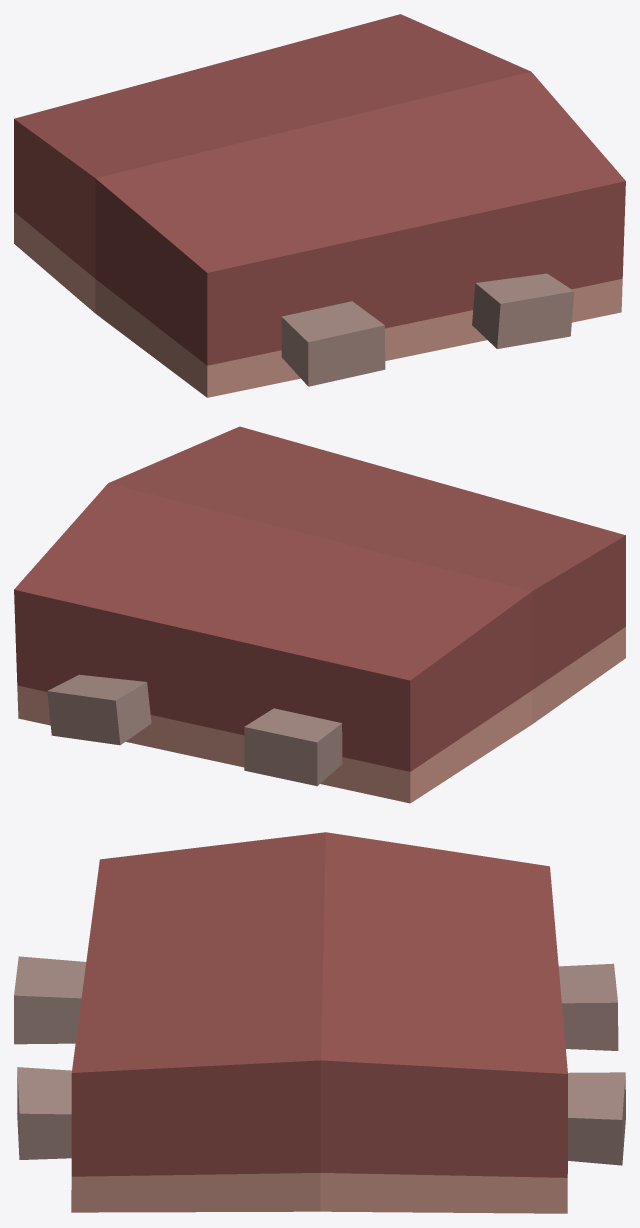
File: porkRibCut02.fbx
3 views of the same model, one above another, from view 1: azimuth 30°, elevation 25°; view 2: azimuth 150°, elevation 25°; view 3: azimuth 270°, elevation 25° (orthographic). The views are drawn at different scales.
Visible parts, largest first — view 1: porkRibCut02; view 2: porkRibCut02; view 3: porkRibCut02.
Part boxes in pixels (x1=…): porkRibCut02: x1=14, y1=14, x2=625, y2=397; porkRibCut02: x1=14, y1=426, x2=625, y2=803; porkRibCut02: x1=14, y1=832, x2=625, y2=1213.
Bounding box in the file's own units: 18.91 × 6.3 × 21.19.
1 material, 1 textured.
